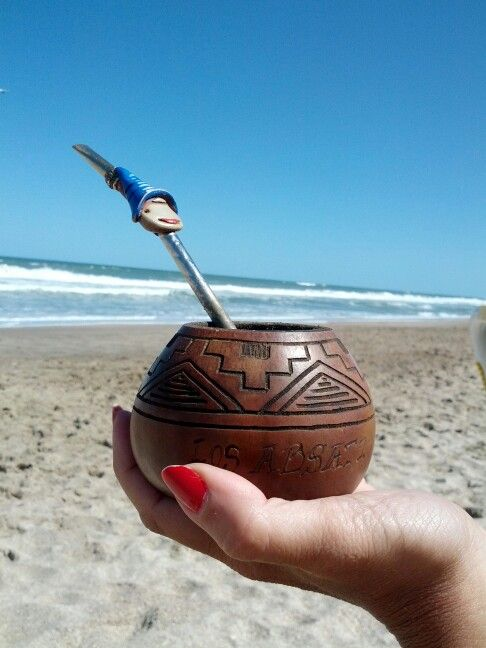madera: (127, 307, 387, 509)
mate: (129, 309, 389, 511)
